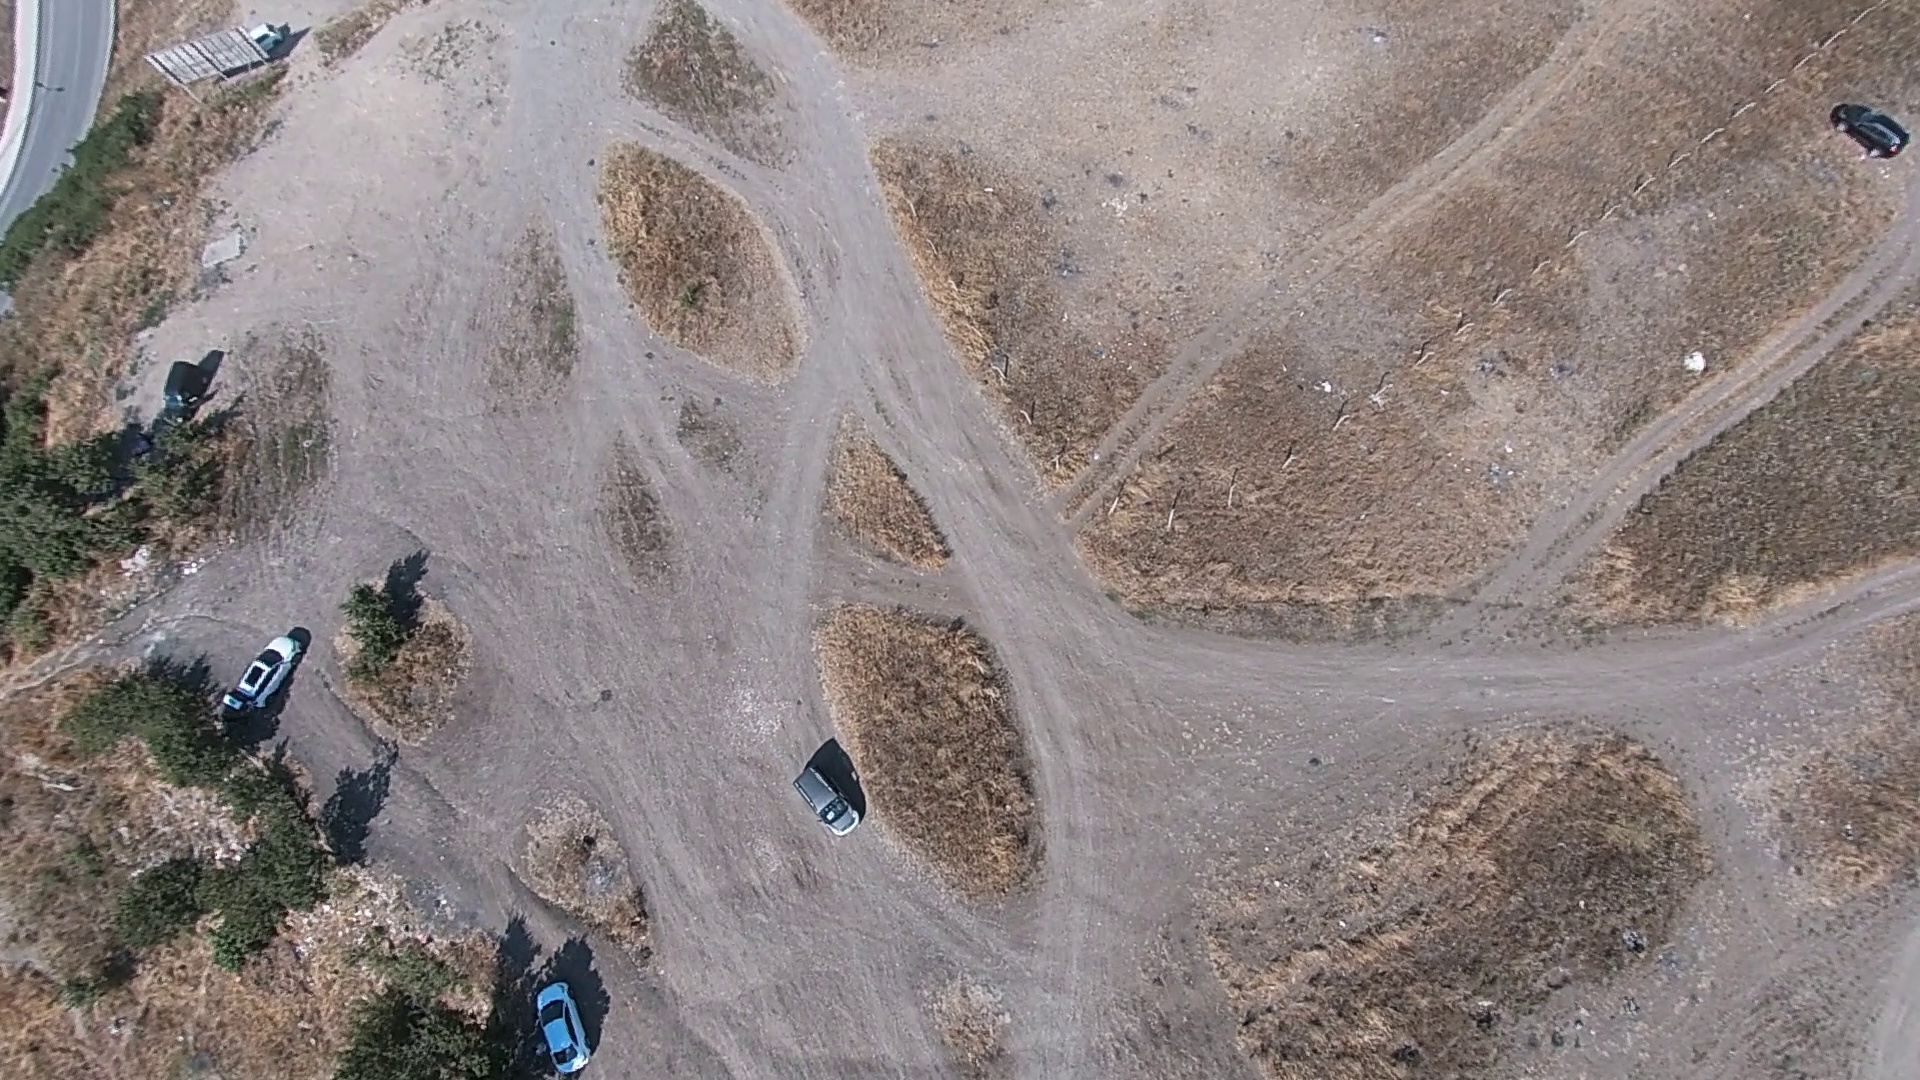araba: (220, 632, 309, 716), (786, 748, 860, 839), (527, 978, 589, 1073), (1838, 102, 1909, 156)
